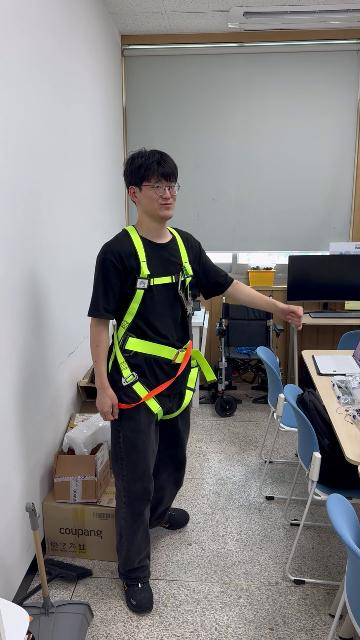helmet_not_worn: (121, 148, 184, 205)
shoe_worn: (121, 578, 153, 614), (155, 508, 189, 531)
vest_worn: (107, 231, 215, 417)
